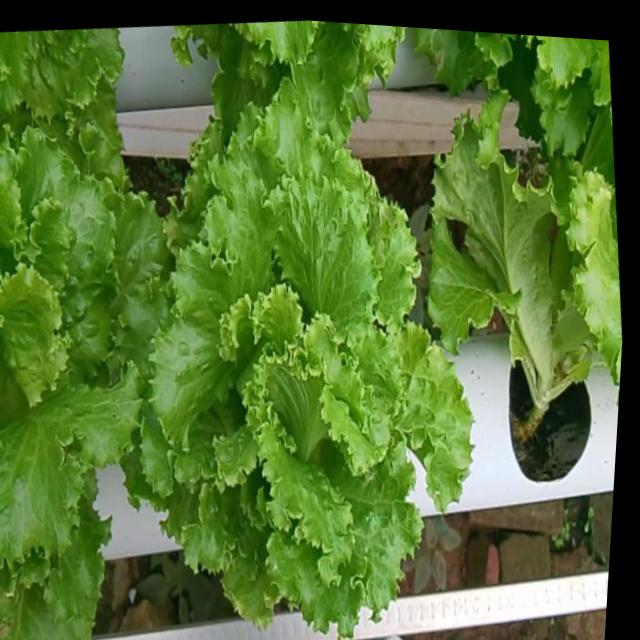Mature: (151, 102, 485, 640), (0, 131, 177, 576)
